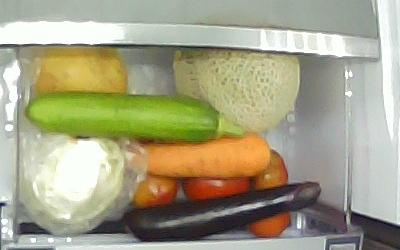cabbage: (17, 132, 125, 228)
carrot: (119, 131, 271, 178)
eggplant: (122, 180, 321, 241)
melon: (172, 46, 300, 130)
pear: (31, 45, 128, 93)
prune: (126, 172, 178, 209), (249, 147, 288, 188), (246, 210, 290, 238)
tomato: (181, 176, 252, 200)
zucchini: (23, 91, 244, 143)
